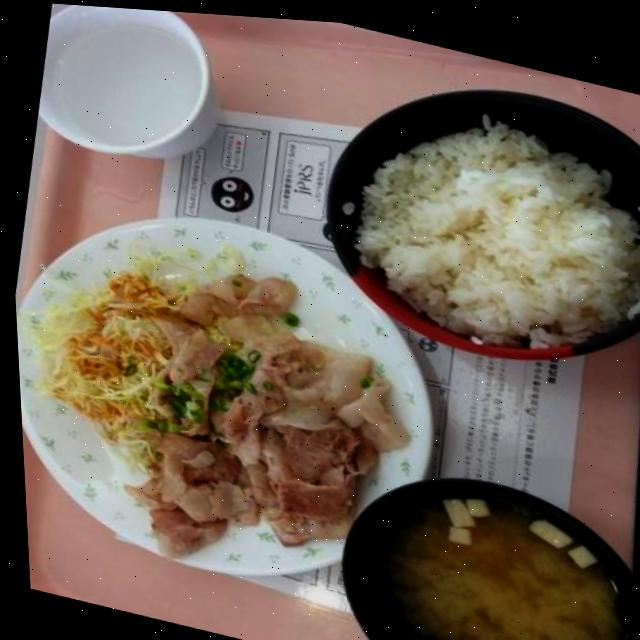汤锅炖物: (292, 417, 640, 640)
米饭主食: (283, 28, 640, 395)
